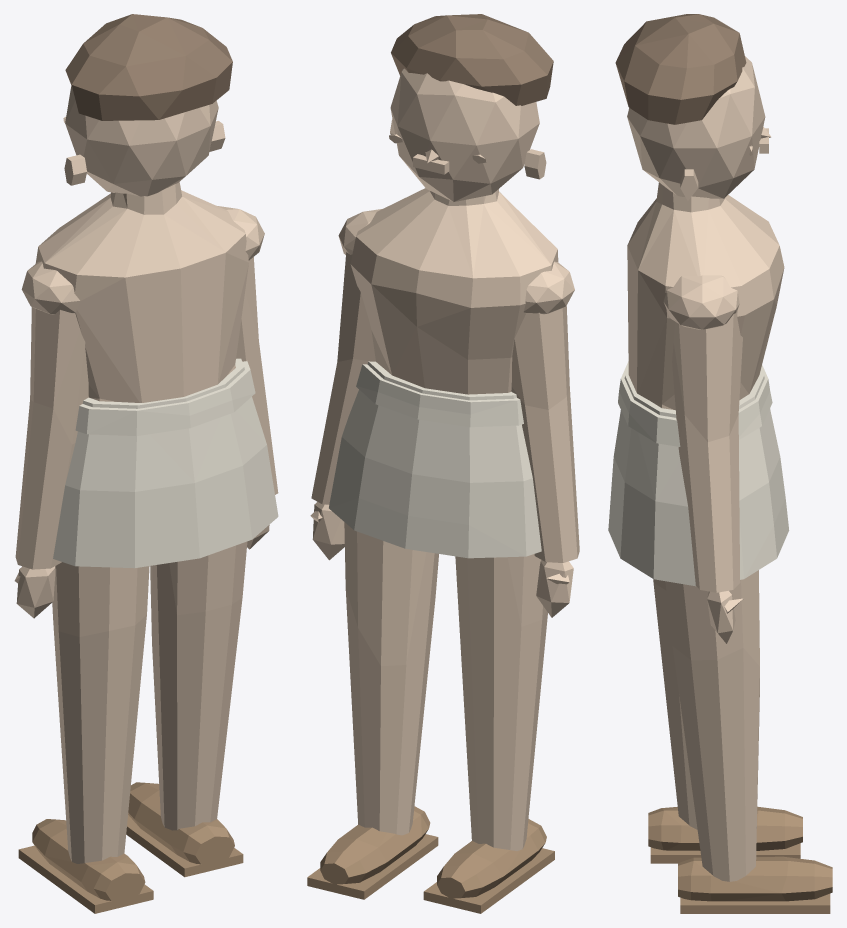
Rendered from 19-NPCs_npc_base.glb.
3 renders of one model, left to right at view 1: azimuth 30°, elevation 25°; view 2: azimuth 150°, elevation 25°; view 3: azimuth 270°, elevation 25°, orthographic. The views are drawn at different scales.
Parts seen in each view (by area): view 1: SM_NPC_M_NPC_Piel, SM_NPC_M_NPC_Ropa_NPC_Botas, SM_NPC_M_NPC_Cabello, SM_NPC_M_NPC_Botas; view 2: SM_NPC_M_NPC_Piel, SM_NPC_M_NPC_Ropa_NPC_Botas, SM_NPC_M_NPC_Botas, SM_NPC_M_NPC_Cabello, SM_NPC_M_NPC_Boca; view 3: SM_NPC_M_NPC_Piel, SM_NPC_M_NPC_Ropa_NPC_Botas, SM_NPC_M_NPC_Botas, SM_NPC_M_NPC_Cabello.
Boxes of the visible parts, x1,y1,x2,y2 form: SM_NPC_M_NPC_Piel: (14, 86, 278, 863); SM_NPC_M_NPC_Ropa_NPC_Botas: (53, 358, 278, 568); SM_NPC_M_NPC_Cabello: (65, 14, 232, 120); SM_NPC_M_NPC_Botas: (18, 782, 243, 913); SM_NPC_M_NPC_Piel: (310, 68, 579, 850); SM_NPC_M_NPC_Ropa_NPC_Botas: (329, 361, 541, 558); SM_NPC_M_NPC_Botas: (307, 806, 554, 913); SM_NPC_M_NPC_Cabello: (391, 14, 553, 105); SM_NPC_M_NPC_Boca: (389, 134, 486, 174); SM_NPC_M_NPC_Piel: (627, 56, 784, 881); SM_NPC_M_NPC_Ropa_NPC_Botas: (608, 361, 789, 586); SM_NPC_M_NPC_Botas: (648, 806, 832, 913); SM_NPC_M_NPC_Cabello: (615, 14, 746, 124).
Bounding box in the file's own units: 0.5054 × 1.57 × 0.377.
